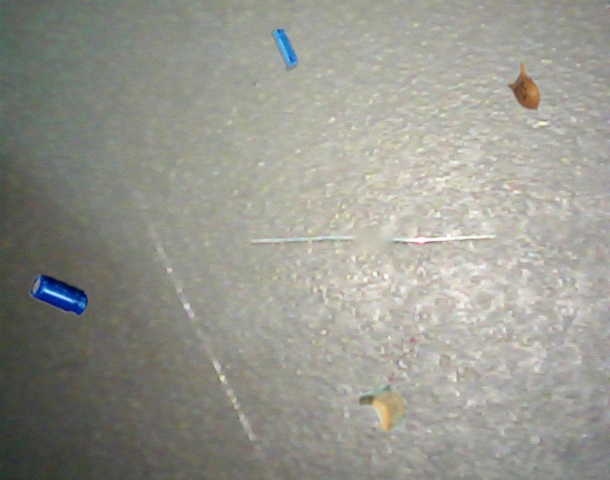capacitor: (358, 384, 408, 432), (30, 275, 88, 316), (507, 62, 541, 111), (272, 29, 298, 70)
